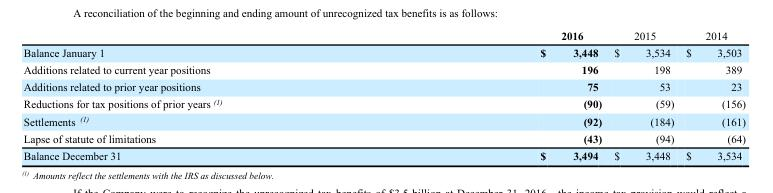table: (22, 28, 744, 161)
table column: (22, 28, 382, 161), (382, 28, 607, 161), (607, 28, 679, 161), (679, 28, 744, 161)
table column header: (22, 28, 744, 43)
table row: (22, 43, 744, 61), (22, 61, 744, 78), (22, 78, 744, 95), (22, 95, 744, 112), (22, 112, 744, 129), (22, 129, 744, 146), (22, 28, 744, 43), (22, 146, 744, 161)
